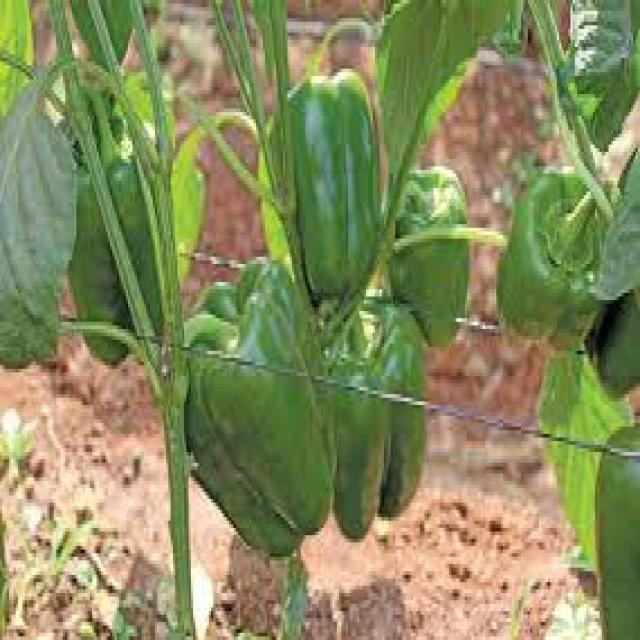Pepper: (183, 258, 331, 560), (270, 12, 382, 310), (319, 308, 428, 546), (65, 140, 166, 368), (495, 168, 597, 336), (388, 164, 471, 344)
